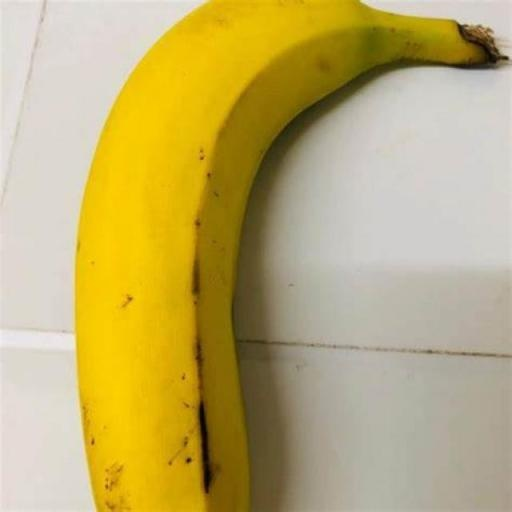fruit: (76, 0, 499, 511)
